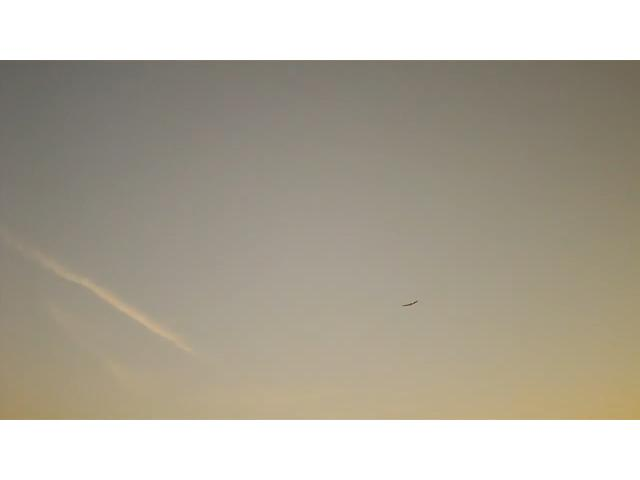Anti-Drone: (402, 300, 418, 306)
